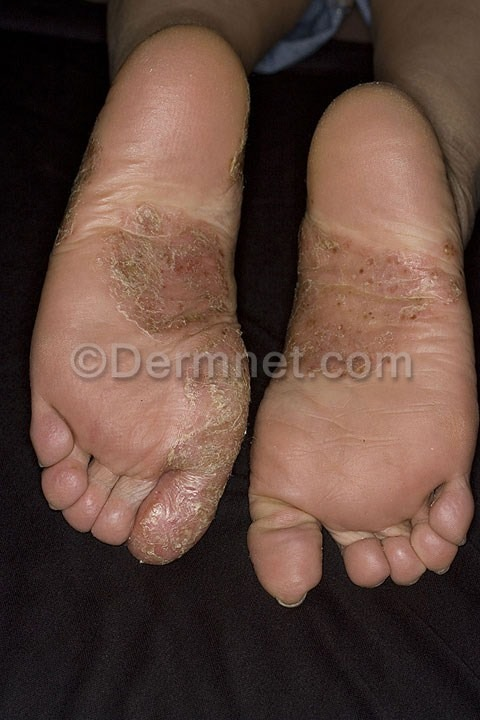Psoriasis: (294, 215, 467, 377), (153, 342, 249, 563), (101, 198, 238, 342), (68, 138, 98, 238)
